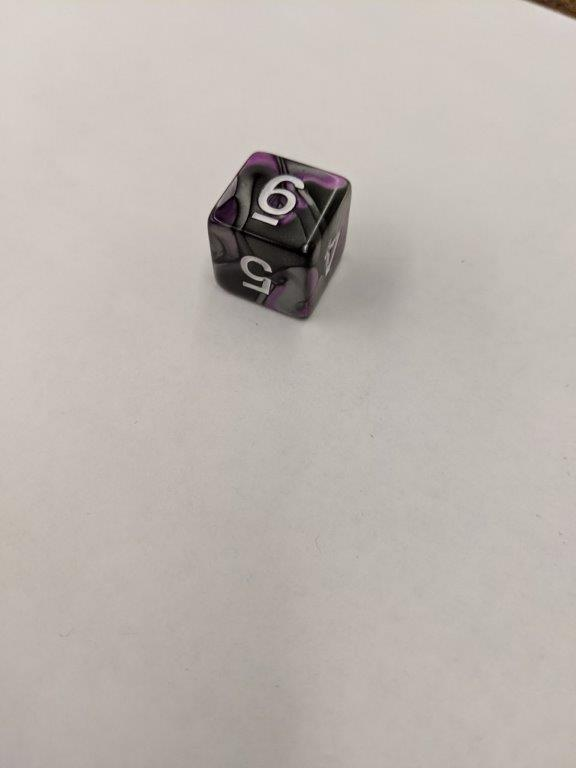d6-6: (208, 150, 352, 319)
